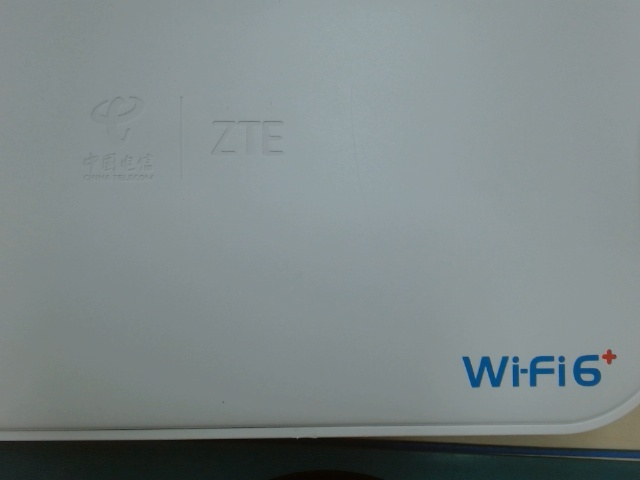AJ_ZTEWIFI6Plus: (454, 338, 625, 392)
